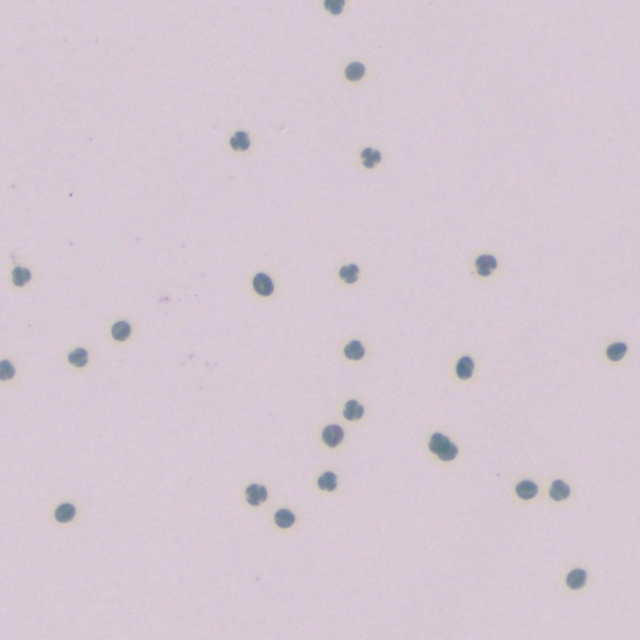non_viable: (429, 433, 456, 460), (342, 399, 363, 420), (253, 273, 273, 295), (246, 484, 266, 505), (475, 255, 496, 275), (549, 480, 569, 500), (516, 480, 537, 499), (111, 320, 130, 340), (274, 508, 294, 527), (456, 356, 473, 378), (344, 340, 363, 359), (55, 503, 74, 522), (566, 569, 585, 588), (361, 148, 380, 167), (339, 264, 357, 283), (230, 131, 249, 149), (12, 266, 30, 285), (323, 426, 341, 444), (606, 342, 625, 359), (68, 349, 87, 366), (345, 62, 363, 79), (318, 472, 335, 490), (324, 0, 344, 13), (0, 359, 13, 379)
